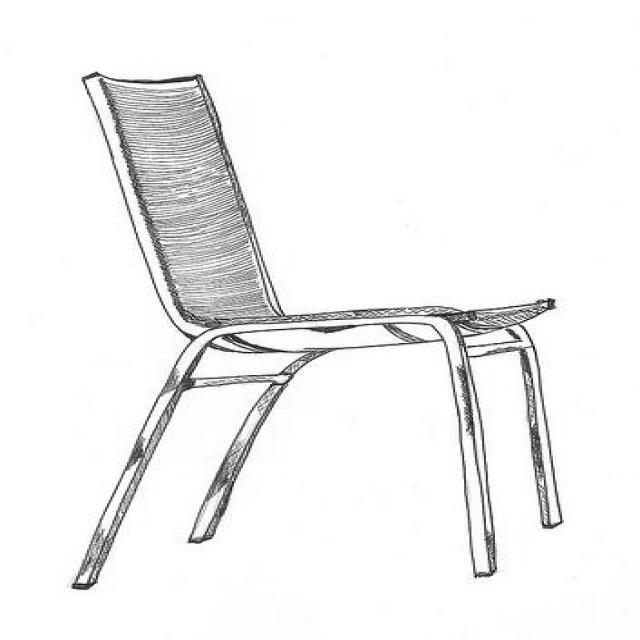chair: (68, 74, 566, 592)
